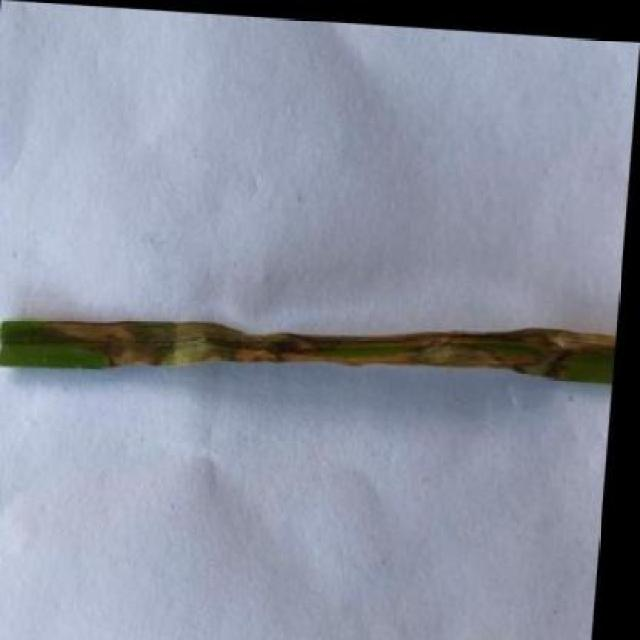Brown_Spot: (0, 284, 622, 402)
